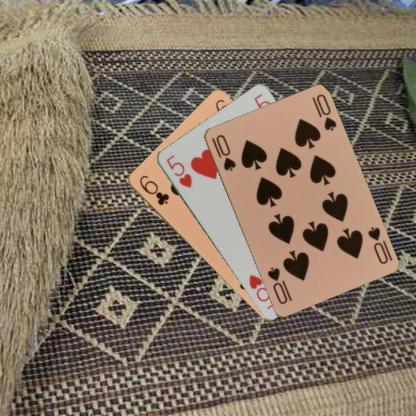10s: (208, 132, 237, 172), (364, 224, 390, 265)
5h: (163, 152, 193, 189)
6c: (136, 173, 171, 207)
